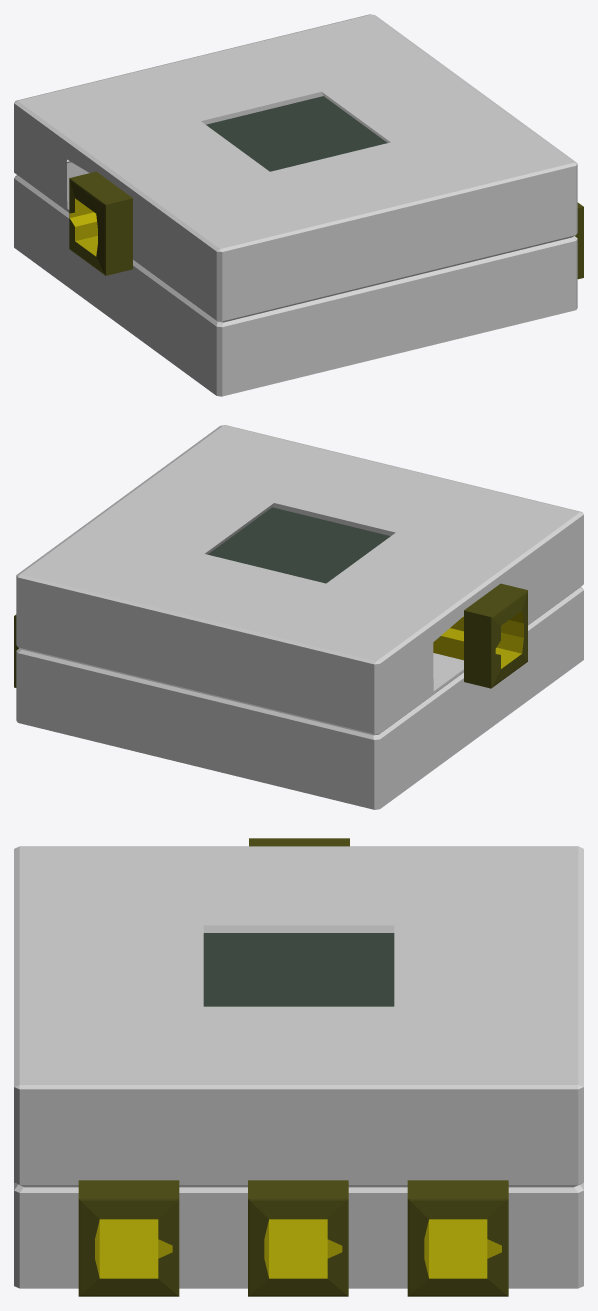
Rendered from SM_MUX.fbx.
The picture shows the model from 3 angles, top to bottom: view 1: azimuth 30°, elevation 25°; view 2: azimuth 150°, elevation 25°; view 3: azimuth 270°, elevation 25°; orthographic projection. The views are drawn at different scales.
Parts seen in each view (by area): view 1: Cube; view 2: Cube; view 3: Cube.
Boxes of the visible parts, box(x1,y1,x2,y2) form: Cube: box(14, 14, 583, 396); Cube: box(14, 425, 583, 809); Cube: box(14, 838, 583, 1296).
Bounding box in the file's own units: 10.23 × 3.43 × 8.72.
